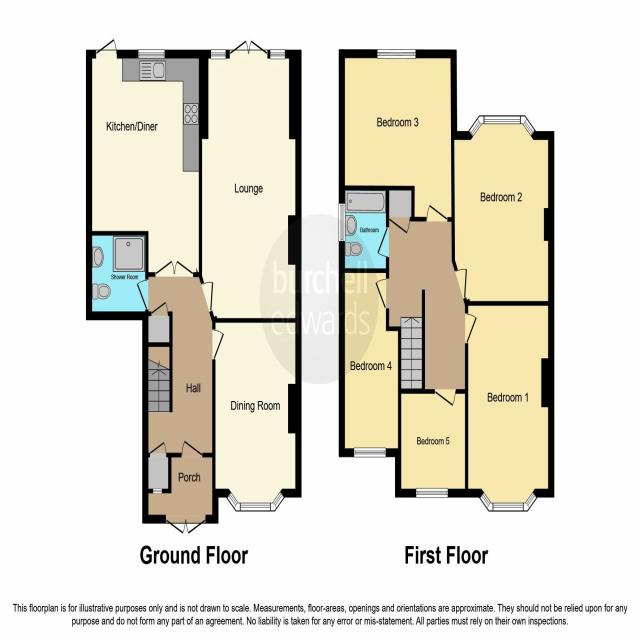DOOR: (95, 37, 118, 59), (375, 277, 389, 310), (454, 268, 468, 300), (425, 203, 448, 222), (433, 389, 457, 407), (212, 328, 225, 361), (181, 439, 203, 458), (376, 226, 389, 258), (136, 278, 149, 310), (201, 281, 214, 313), (465, 313, 477, 344)
DOUBLE DOOR: (165, 514, 206, 534), (229, 40, 268, 59), (154, 260, 194, 277)
ROOM: (86, 38, 209, 277), (199, 40, 302, 323), (338, 49, 457, 222), (451, 114, 555, 306), (463, 301, 555, 513), (211, 318, 302, 512), (338, 268, 401, 458), (395, 389, 469, 498)
WINDOW: (468, 115, 536, 138), (226, 490, 286, 513), (479, 491, 538, 512), (376, 49, 416, 60), (415, 487, 449, 499), (353, 447, 386, 458), (338, 202, 346, 242), (138, 49, 166, 59), (210, 49, 227, 60), (270, 49, 286, 60)
